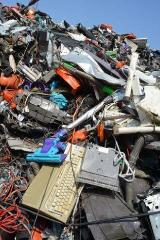electronic: (28, 128, 92, 238)
